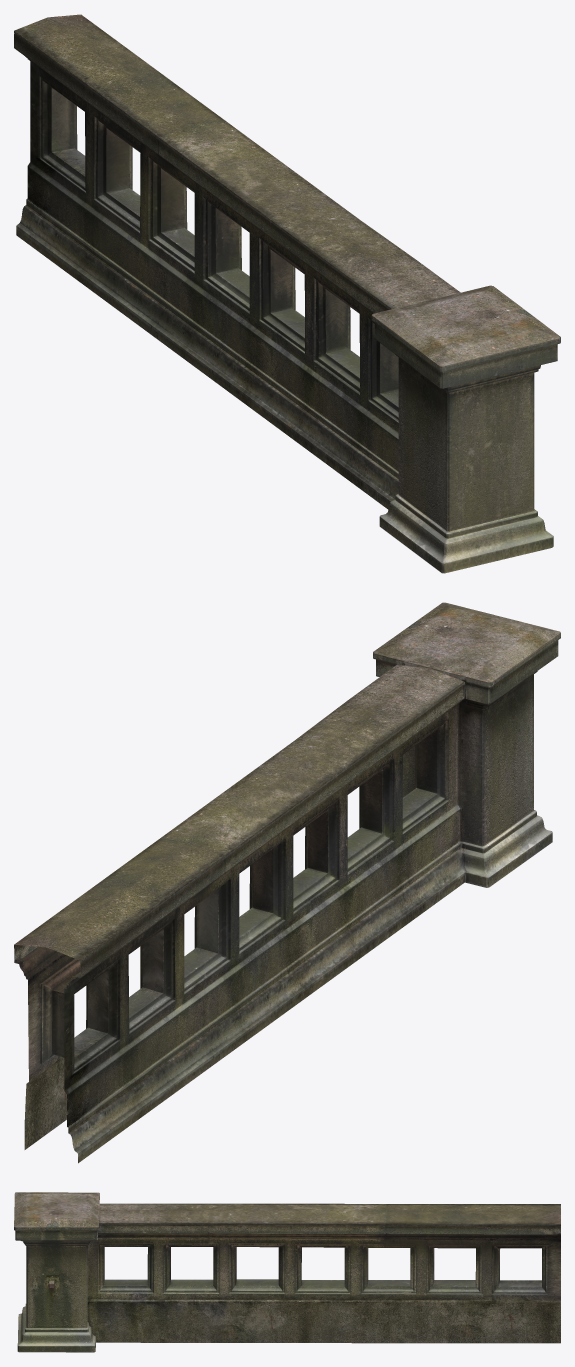
File: sm_GraveBanister_01_03.fbx
3 views of the same model, one above another, from view 1: azimuth 30°, elevation 25°; view 2: azimuth 150°, elevation 25°; view 3: azimuth 270°, elevation 25° (orthographic). The views are drawn at different scales.
Visible parts, largest first — view 1: sm_GraveBanister_01_03_LOD0; view 2: sm_GraveBanister_01_03_LOD0; view 3: sm_GraveBanister_01_03_LOD0.
Boxes of the visible parts, x1,y1,x2,y2 form: sm_GraveBanister_01_03_LOD0: (14,14,560,573); sm_GraveBanister_01_03_LOD0: (14,602,560,1163); sm_GraveBanister_01_03_LOD0: (14,1192,560,1352).
Size of the model in its own units: 42.61 by 277 by 72.57.
